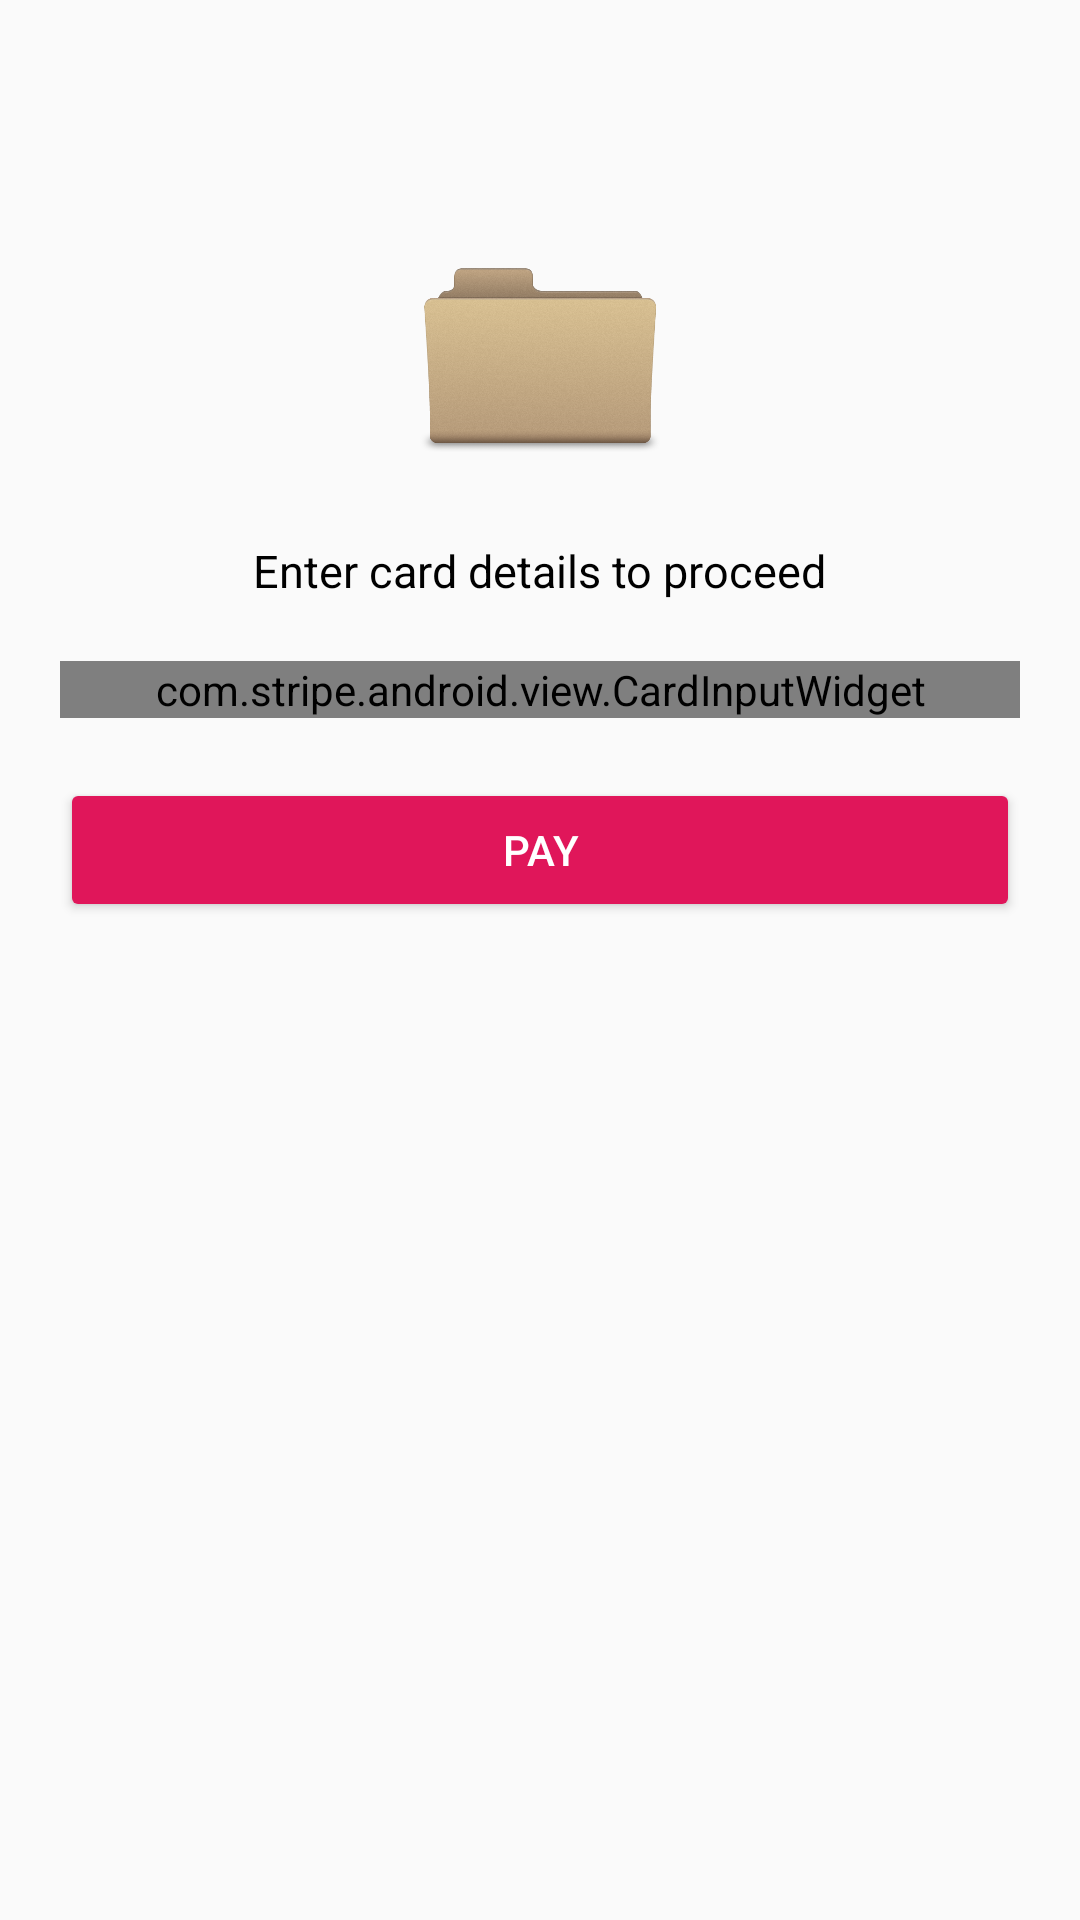

Locate icon controls on the screen. Image size 1080 x 1920, boxes as bbox=[x1, y1, x2, y2].
folder: bbox=[424, 268, 656, 448]
